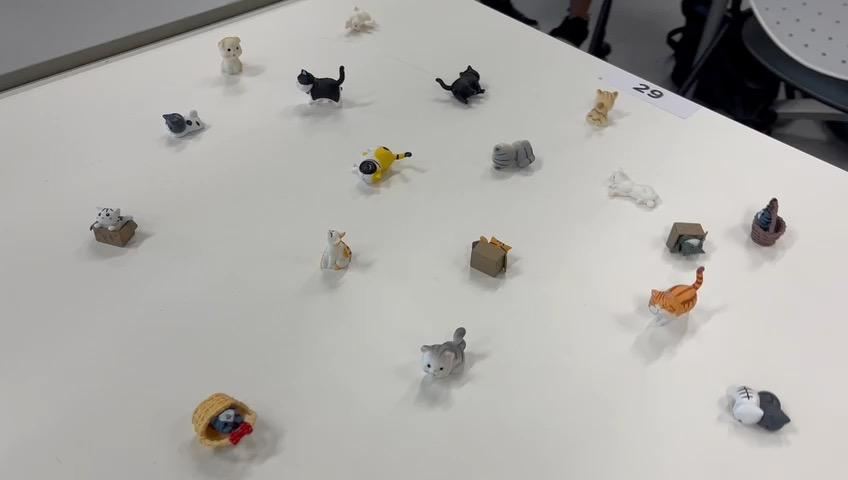pet: (186, 389, 261, 454), (721, 379, 801, 439), (645, 262, 711, 331), (348, 135, 414, 192), (599, 160, 664, 213), (417, 321, 472, 383), (430, 60, 495, 107), (288, 64, 352, 109), (87, 204, 143, 250), (750, 193, 789, 251), (469, 233, 516, 281), (158, 104, 214, 142), (315, 226, 355, 278), (663, 220, 710, 258), (490, 136, 537, 173), (584, 87, 621, 131), (214, 32, 250, 76), (341, 3, 380, 39)
